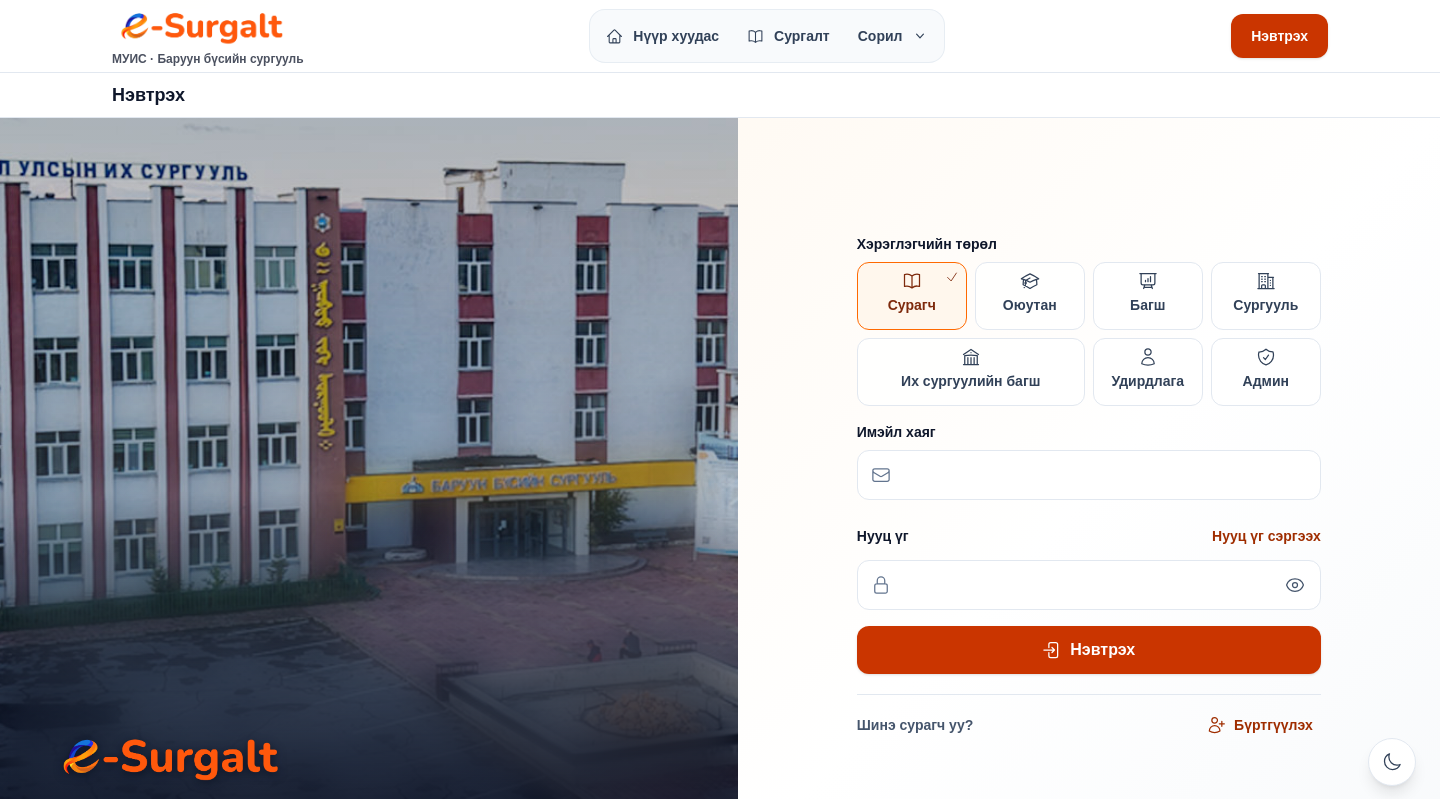
Scenario: keeps a failed sign-in message next to the form and clears it on edit
Type "student@example.test" into the field labelled "Имэйл хаяг". click: {"x": 1089, "y": 475}
box: [857,450,1321,500]
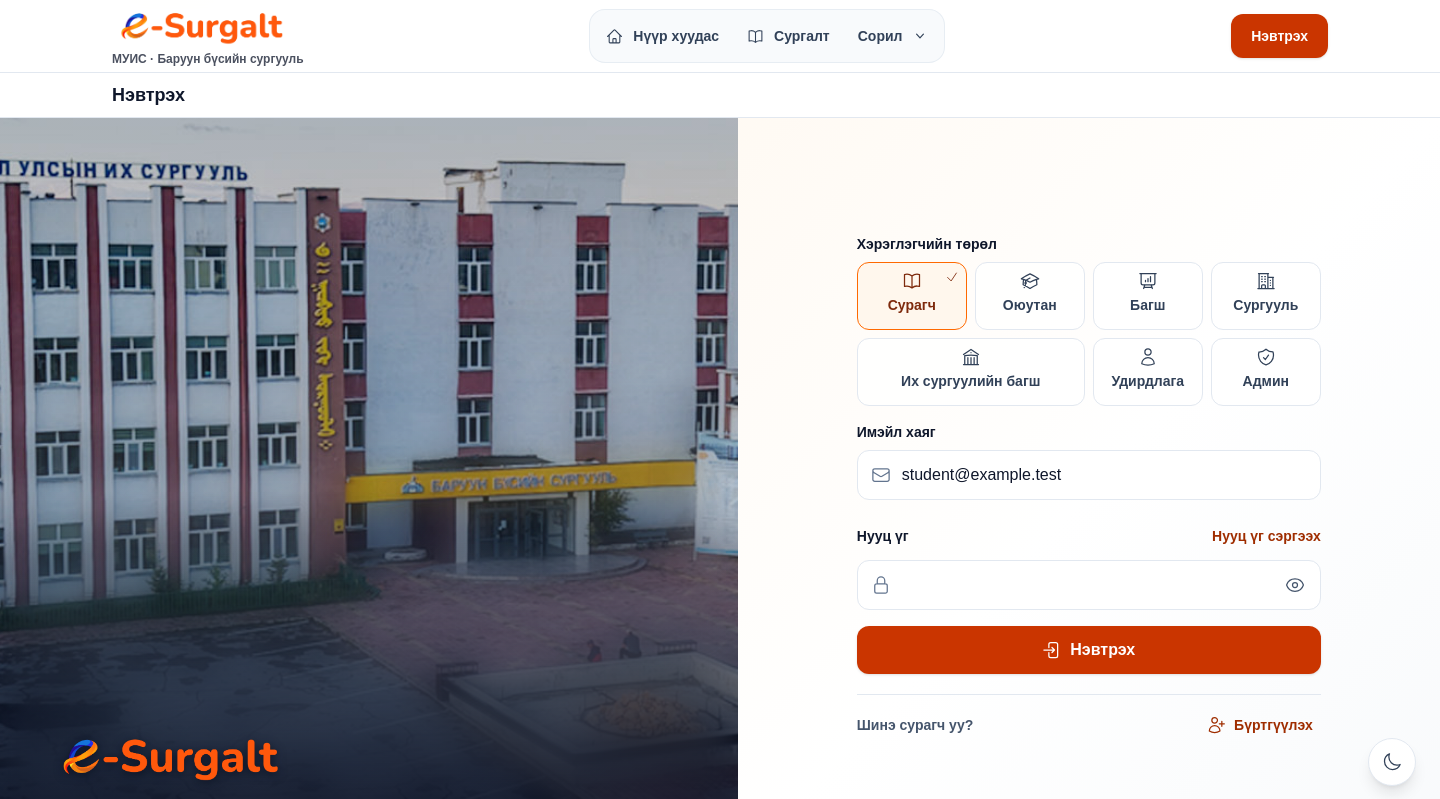
Type "example-password" into the password field labelled "Нууц үг". click: {"x": 1089, "y": 585}
box: [857,560,1321,610]
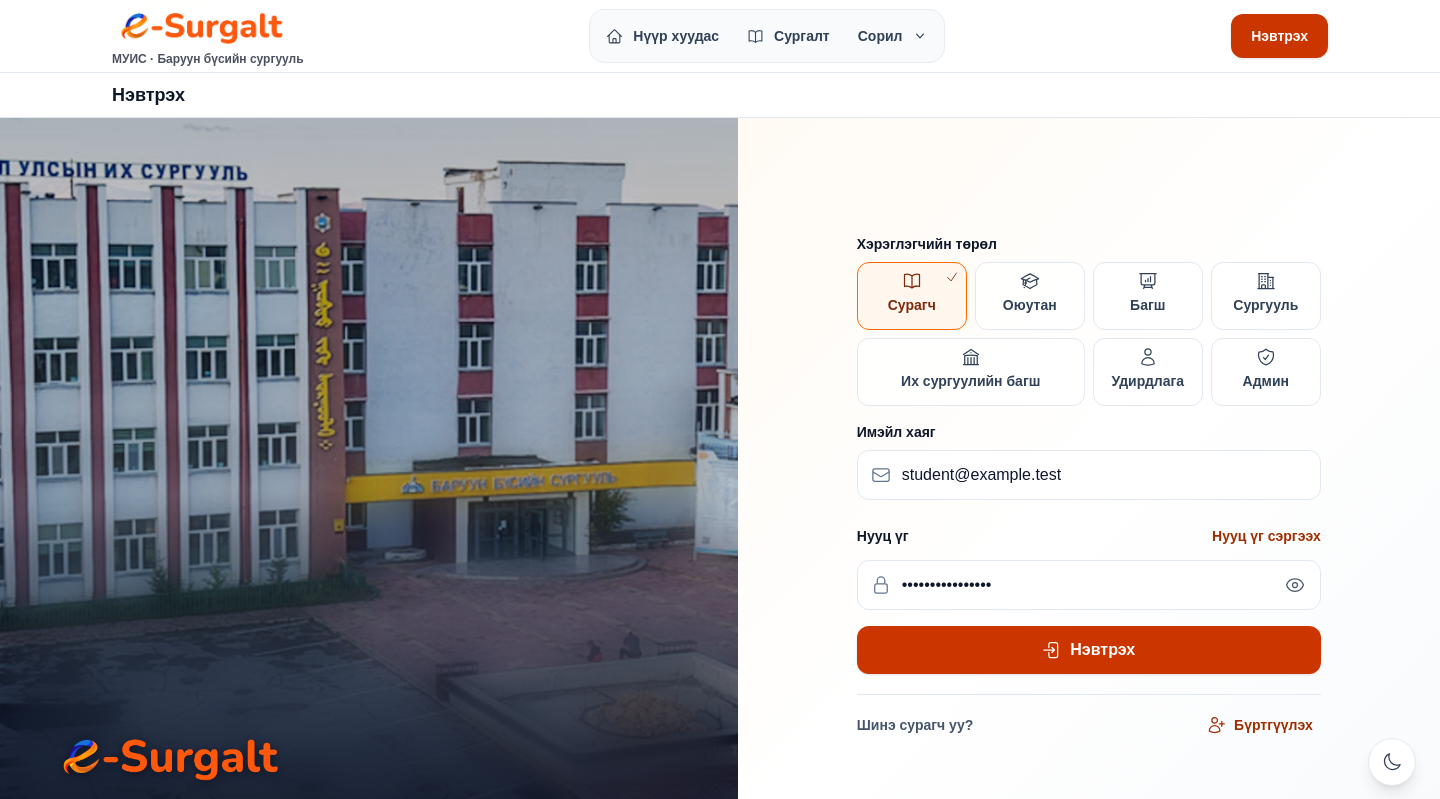
Click the button "Нэвтрэх". click: {"x": 1089, "y": 650}
box: [857,626,1321,674]
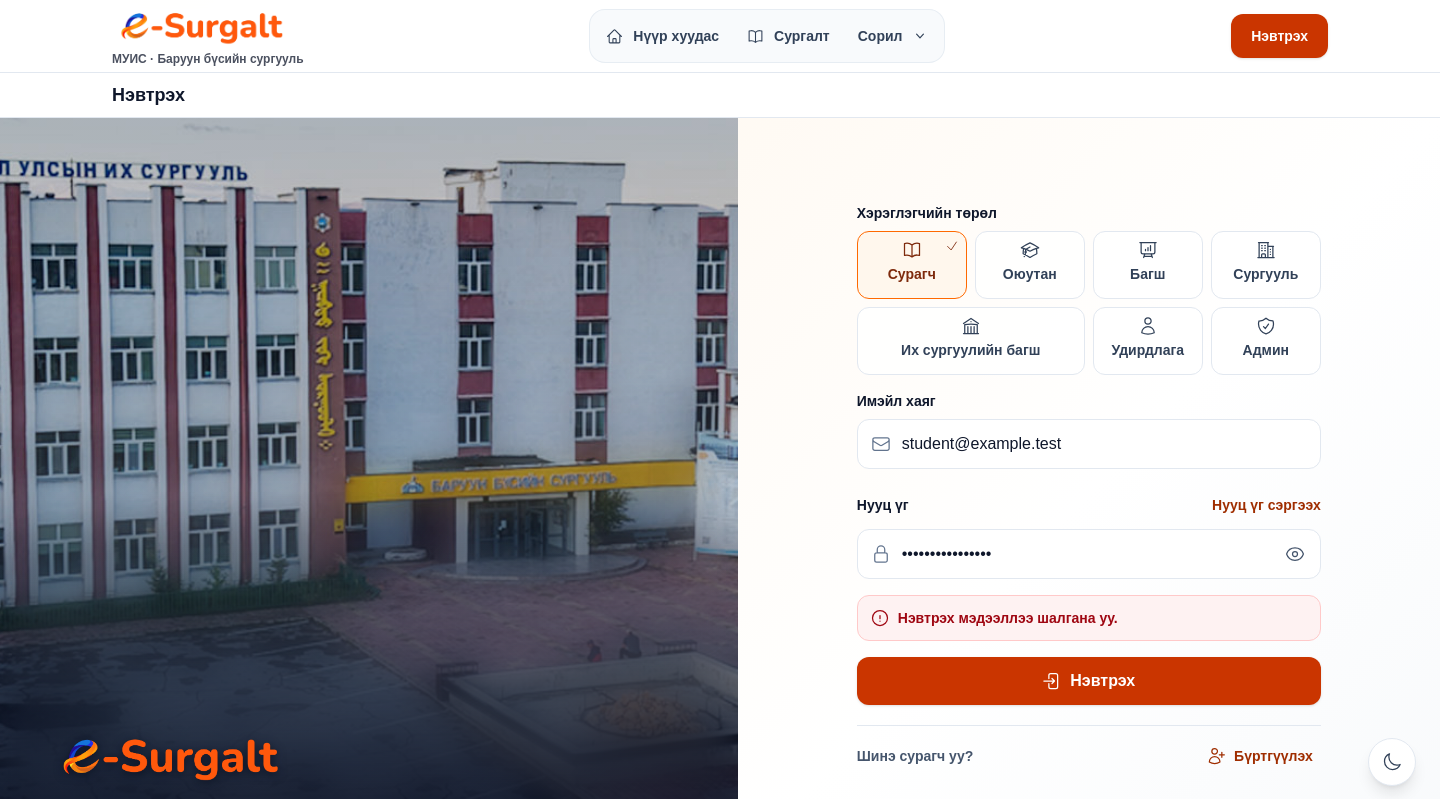
expect the button "Нэвтрэх" is enabled: met, box [857,657,1321,705]
expect the message reads "Нэвтрэх мэдээллээ шалгана уу.": met, box [898,610,1118,626]
Replace the text in the field labelled "Имэйл хаяг" with "student2@example.test". click: {"x": 1089, "y": 444}
box: [857,419,1321,469]
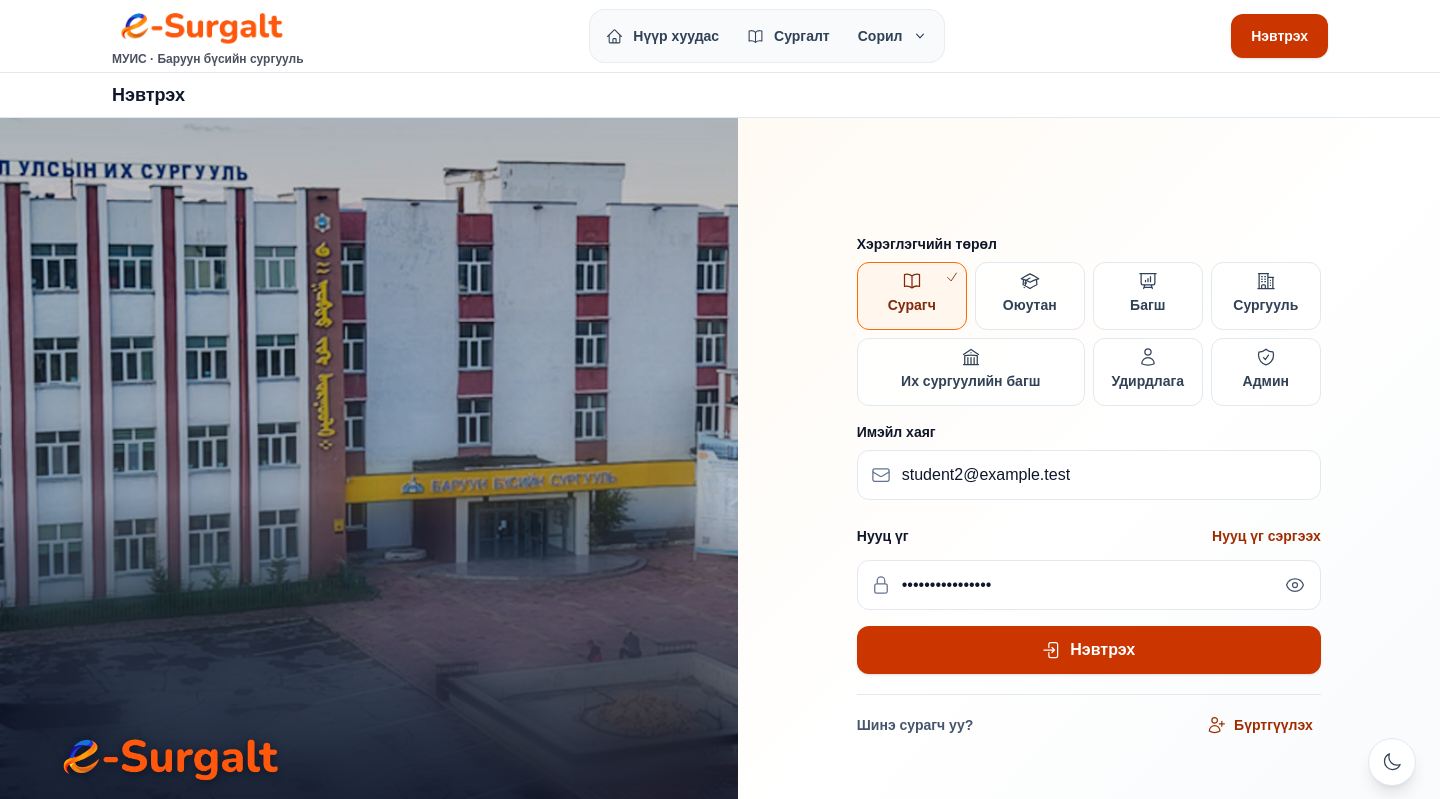
expect the message "Нэвтрэх мэдээллээ шалгана уу." is gone: met
